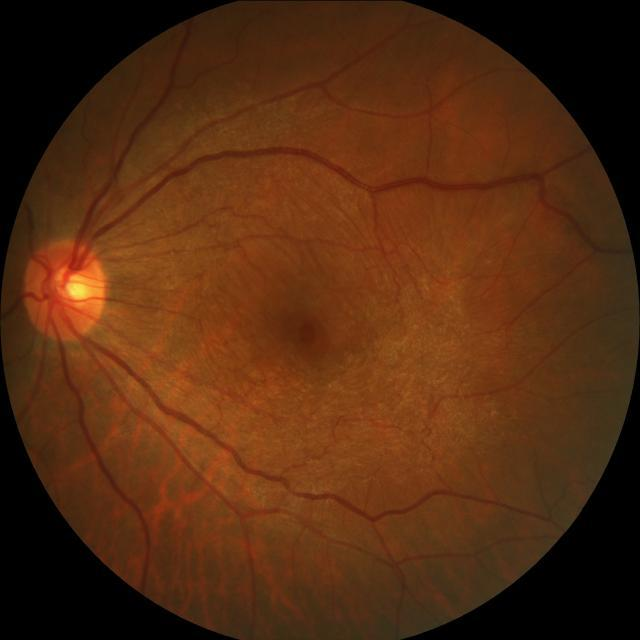OC: (55, 268, 91, 302)
OD: (21, 236, 107, 341)
